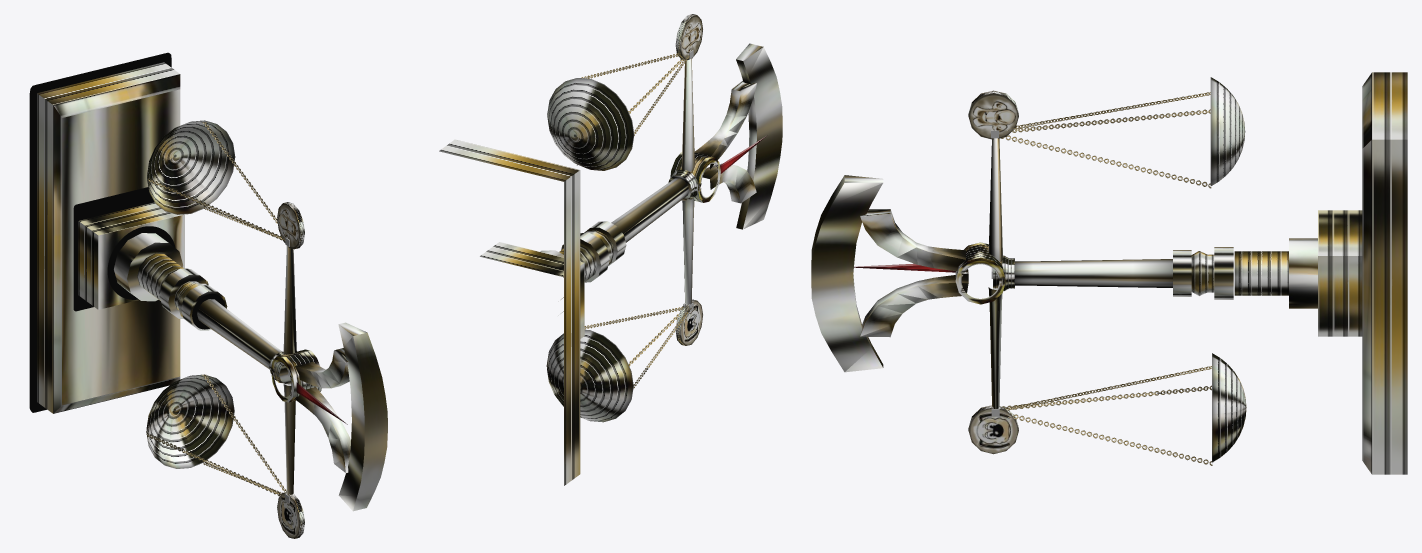
Rendered from lawbot_scale.glb.
3 renders of one model, left to right at view 1: azimuth 30°, elevation 25°; view 2: azimuth 150°, elevation 25°; view 3: azimuth 270°, elevation 25°, orthographic. The views are drawn at different scales.
Visible parts, largest first — view 1: Scale_base_top, Scale_base, Scale_cup_2, Scale_pan_1, Scale_top, Scale_post_1, shadow_3, Scale_top_4, polySurface2, polySurface3, scaleBeam, shadow_2 (+8 smaller); view 2: Scale_base, Scale_pan_1, Scale_top, Scale_cup_2, Scale_top_4, scaleBeam, polySurface2, Scale_post_1, Pros_Icon, DEf_Icon1, Scale_pivot, polySurface4 (+2 smaller); view 3: Scale_base, Scale_top, Scale_post_1, Scale_top_4, polySurface2, Scale_pan_1, Scale_cup_2, scaleBeam, polySurface7, polySurface3, Pros_Icon, DEf_Icon1 (+5 smaller).
Part boxes in pixels (x1=…): Scale_base_top: x1=62, y1=89, x2=180, y2=405; Scale_base: x1=37, y1=62, x2=180, y2=413; Scale_cup_2: x1=146, y1=374, x2=234, y2=468; Scale_pan_1: x1=147, y1=120, x2=235, y2=214; Scale_top: x1=338, y1=322, x2=387, y2=511; Scale_post_1: x1=78, y1=202, x2=184, y2=309; shadow_3: x1=29, y1=52, x2=171, y2=412; Scale_top_4: x1=295, y1=348, x2=350, y2=472; polySurface2: x1=197, y1=299, x2=281, y2=369; polySurface3: x1=114, y1=233, x2=182, y2=301; scaleBeam: x1=283, y1=245, x2=296, y2=495; shadow_2: x1=73, y1=187, x2=154, y2=311; Scale_base: x1=439, y1=139, x2=580, y2=485; Scale_pan_1: x1=547, y1=78, x2=634, y2=170; Scale_top: x1=736, y1=43, x2=782, y2=229; Scale_cup_2: x1=546, y1=329, x2=633, y2=422; Scale_top_4: x1=694, y1=80, x2=756, y2=203; scaleBeam: x1=681, y1=58, x2=694, y2=304; polySurface2: x1=611, y1=178, x2=689, y2=242; Scale_post_1: x1=480, y1=242, x2=584, y2=338; Pros_Icon: x1=675, y1=14, x2=702, y2=60; DEf_Icon1: x1=675, y1=299, x2=702, y2=345; Scale_pivot: x1=670, y1=152, x2=720, y2=202; polySurface4: x1=561, y1=232, x2=609, y2=282; Scale_base: x1=1362, y1=72, x2=1407, y2=474; Scale_top: x1=811, y1=175, x2=883, y2=372; Scale_post_1: x1=1318, y1=210, x2=1362, y2=336; Scale_top_4: x1=860, y1=209, x2=968, y2=337; polySurface2: x1=1015, y1=259, x2=1172, y2=287; Scale_pan_1: x1=1210, y1=77, x2=1245, y2=185; Scale_cup_2: x1=1212, y1=353, x2=1246, y2=462; scaleBeam: x1=988, y1=138, x2=1003, y2=408; polySurface7: x1=1234, y1=251, x2=1288, y2=295; polySurface3: x1=1289, y1=238, x2=1317, y2=308; Pros_Icon: x1=968, y1=90, x2=1018, y2=139; DEf_Icon1: x1=968, y1=405, x2=1018, y2=454.
Size of the model in its own units: 6.7 by 14.78 by 18.43.
Materials: 12 (11 with a texture image).
